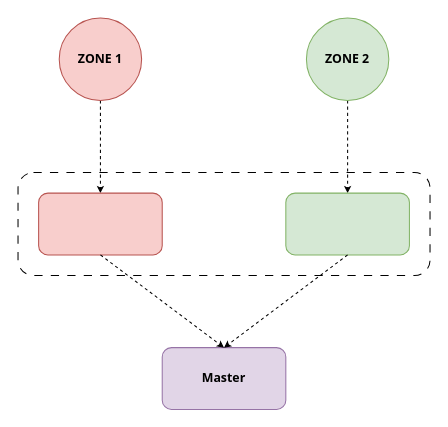
Some shapes in this 448 by 427 pixel diagram are drawn without their labels. The shapes that lost their labels are listed below. From the top down, each one's box as (x1, y1, x2, y2) in pixels, then its label:
(38, 192, 162, 255): worker 1
(285, 192, 409, 255): worker 2
